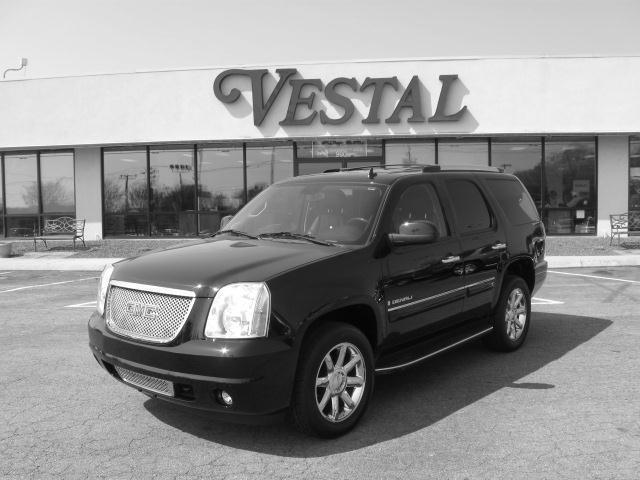car: (90, 163, 547, 439)
